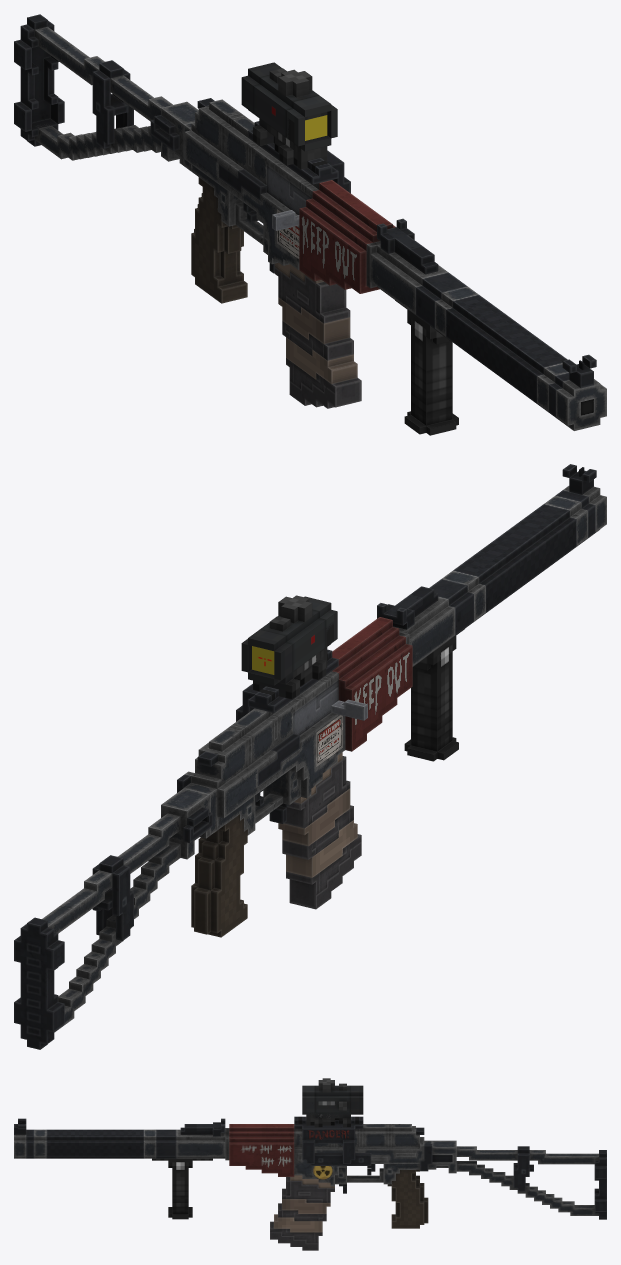
File: RD_ASVAL_SURVIVAL.glb
3 views of the same model, one above another, from view 1: azimuth 30°, elevation 25°; view 2: azimuth 150°, elevation 25°; view 3: azimuth 270°, elevation 25° (orthographic). The views are drawn at different scales.
Visible parts, largest first — view 1: ASVAL, ASVAL_CLIP, SCOPE_TASCO, GRIP1, ASVAL_PLANK, SCOPE_AIMPOINT; view 2: ASVAL, ASVAL_CLIP, SCOPE_TASCO, GRIP1, ASVAL_PLANK; view 3: ASVAL, ASVAL_CLIP, ASVAL_PLANK (×2), SCOPE_TASCO, GRIP1, SCOPE_AIMPOINT.
Boxes of the visible parts, x1=… form: ASVAL: x1=14, y1=14, x2=606, y2=430; ASVAL_CLIP: x1=274, y1=262, x2=361, y2=408; SCOPE_TASCO: x1=241, y1=62, x2=337, y2=165; GRIP1: x1=395, y1=300, x2=458, y2=435; ASVAL_PLANK: x1=248, y1=121, x2=350, y2=193; SCOPE_AIMPOINT: x1=267, y1=112, x2=327, y2=169; ASVAL: x1=14, y1=464, x2=606, y2=1049; ASVAL_CLIP: x1=278, y1=752, x2=361, y2=909; SCOPE_TASCO: x1=241, y1=595, x2=337, y2=699; GRIP1: x1=404, y1=629, x2=464, y2=761; ASVAL_PLANK: x1=236, y1=649, x2=338, y2=721; ASVAL: x1=14, y1=1118, x2=606, y2=1228; ASVAL_CLIP: x1=270, y1=1175, x2=334, y2=1250; ASVAL_PLANK (×2): x1=294, y1=1116, x2=371, y2=1165; SCOPE_TASCO: x1=302, y1=1078, x2=363, y2=1127; GRIP1: x1=152, y1=1158, x2=212, y2=1219; SCOPE_AIMPOINT: x1=306, y1=1103, x2=342, y2=1125.
Size of the model in its own units: 0.1181 by 0.4429 by 1.44.
Materials: 6 (6 with a texture image).
